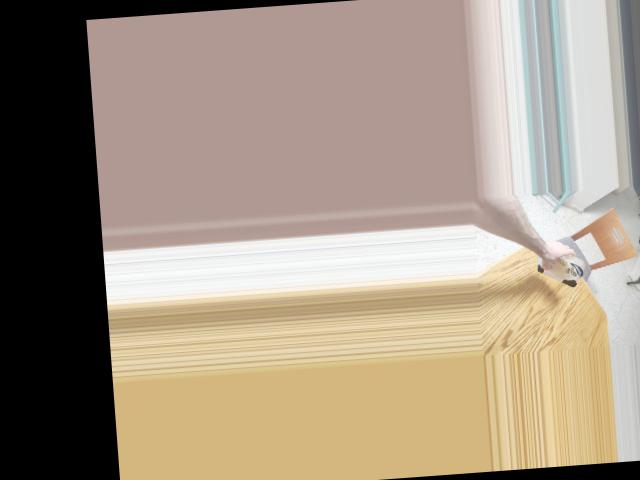cheese: (531, 239, 586, 289)
